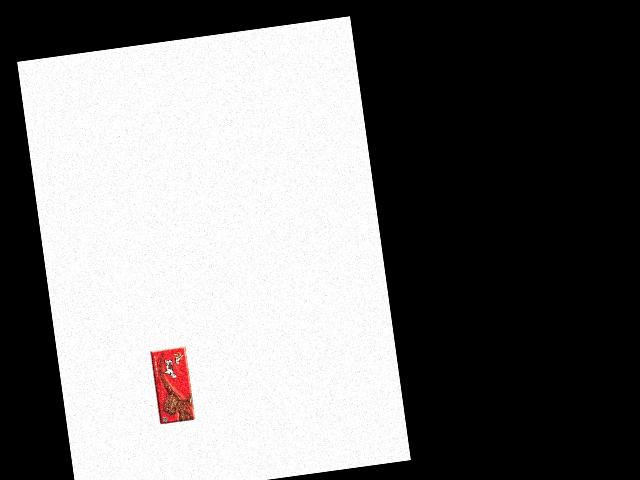chocolate: (157, 352, 203, 425)
